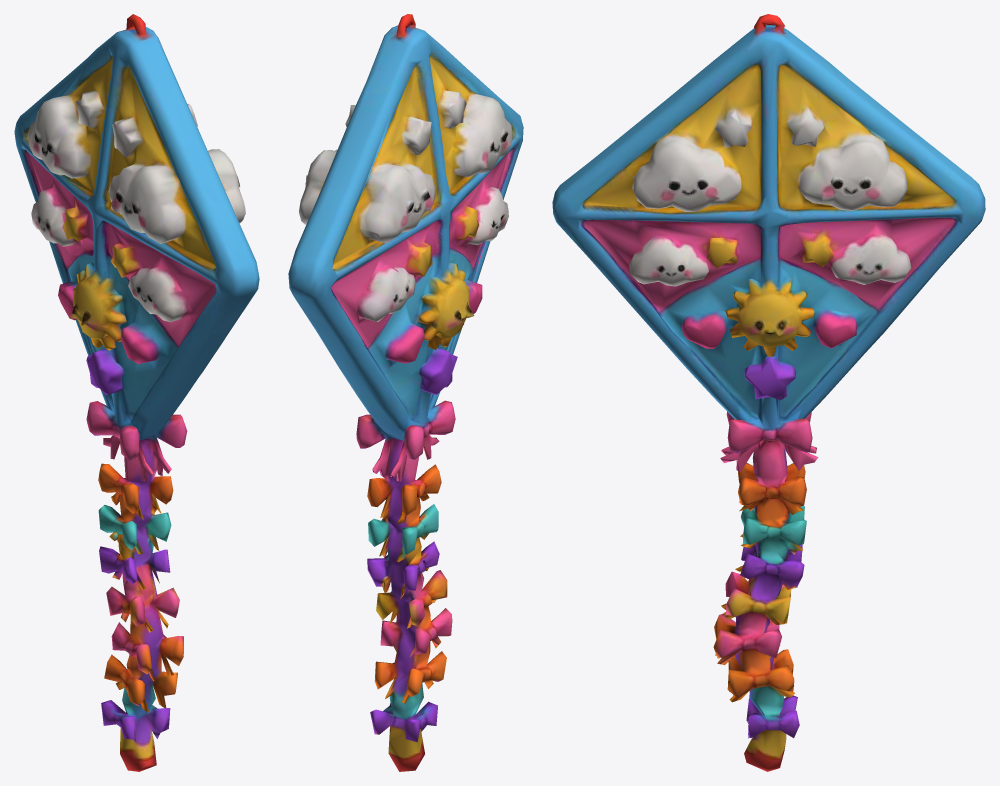
The model's file is kite.glb.
The picture shows the model from 3 angles, left to right: view 1: azimuth 30°, elevation 25°; view 2: azimuth 150°, elevation 25°; view 3: azimuth 270°, elevation 25°; orthographic projection.
Parts seen in each view (by area): view 1: tripo_node_10733ef4-8c19-4dc9-a474-06428a7c94c4; view 2: tripo_node_10733ef4-8c19-4dc9-a474-06428a7c94c4; view 3: tripo_node_10733ef4-8c19-4dc9-a474-06428a7c94c4.
Boxes of the visible parts, x1,y1,x2,y2 form: tripo_node_10733ef4-8c19-4dc9-a474-06428a7c94c4: [14, 14, 259, 771]; tripo_node_10733ef4-8c19-4dc9-a474-06428a7c94c4: [288, 14, 523, 771]; tripo_node_10733ef4-8c19-4dc9-a474-06428a7c94c4: [552, 14, 985, 771].
Bounding box in the file's own units: 0.0349 × 0.2 × 0.1037.
1 material, 1 textured.
